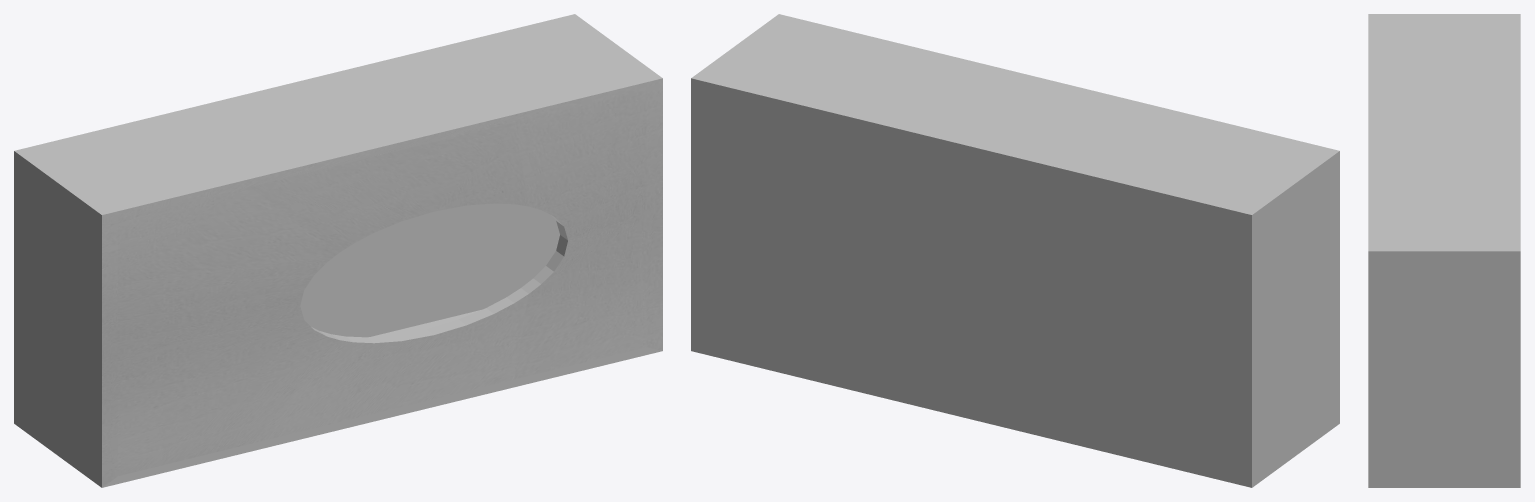
3 views of the same model, side by side, from view 1: azimuth 30°, elevation 25°; view 2: azimuth 150°, elevation 25°; view 3: azimuth 270°, elevation 25° (orthographic). The views are drawn at different scales.
Visible parts, largest first — view 1: untenbox; view 2: untenbox; view 3: untenbox.
Boxes of the visible parts, x1,y1,x2,y2 form: untenbox: (14,14,662,487); untenbox: (691,14,1339,487); untenbox: (1368,14,1520,487).
Size of the model in its own units: 0.7791 by 0.362 by 0.2114.
Materials: 1 (1 with a texture image).
